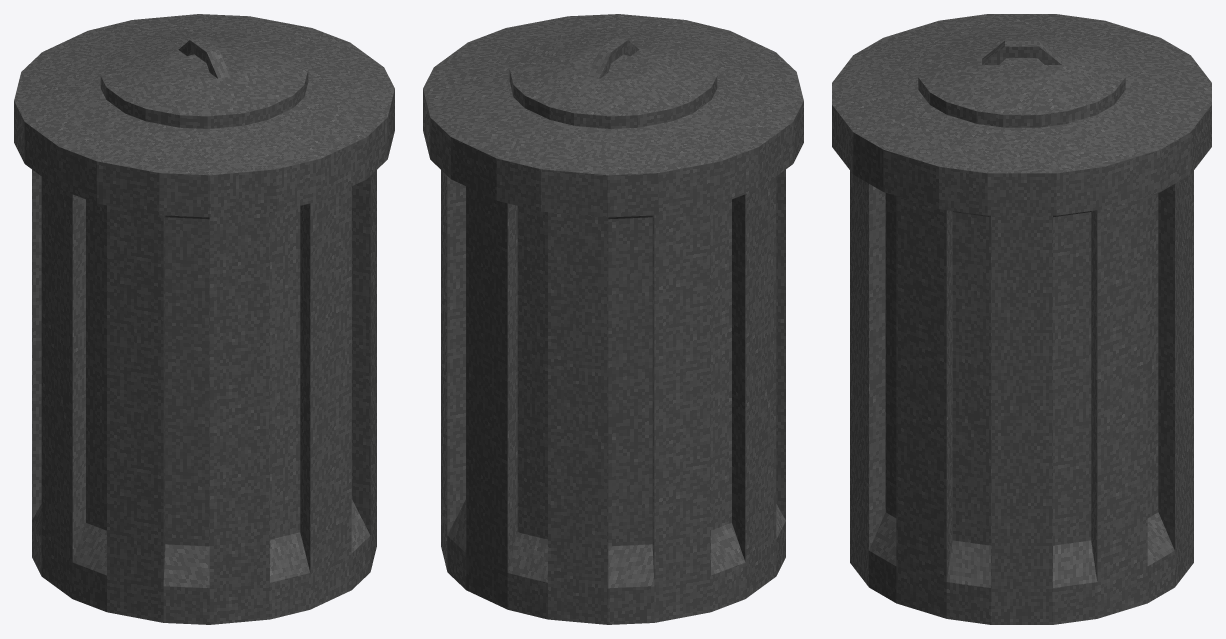
The model's file is Trash_bak.fbx.
The picture shows the model from 3 angles, left to right: view 1: azimuth 30°, elevation 25°; view 2: azimuth 150°, elevation 25°; view 3: azimuth 270°, elevation 25°; orthographic projection.
Visible parts, largest first — view 1: Cylinder; view 2: Cylinder; view 3: Cylinder.
Boxes of the visible parts, x1,y1,x2,y2 form: Cylinder: [14, 14, 394, 624]; Cylinder: [423, 14, 803, 624]; Cylinder: [832, 14, 1211, 624].
Size of the model in its own units: 45.65 by 67.99 by 45.98.
